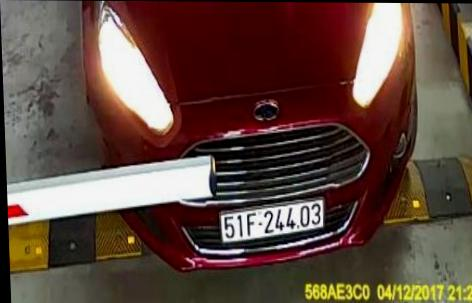License_Plate: (218, 201, 329, 245)
